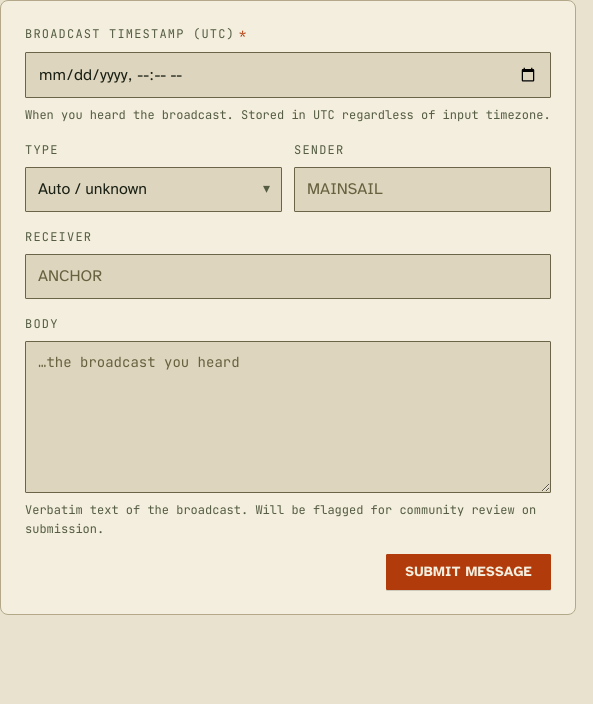
Test: MessageSubmitForm › rejects submission without a broadcast timestamp
Click the button "Submit message" at (469, 572), box [386,554,551,590]
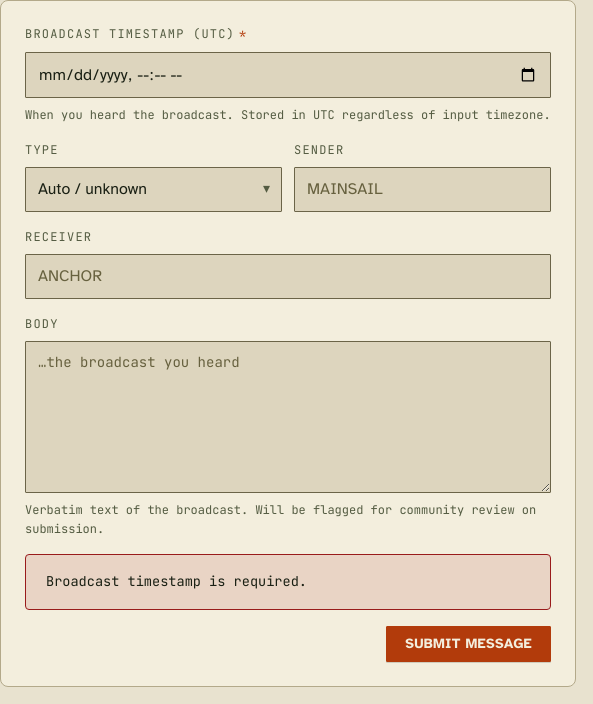
Result: the message shows "timestamp is required" at [46,572,307,590]
